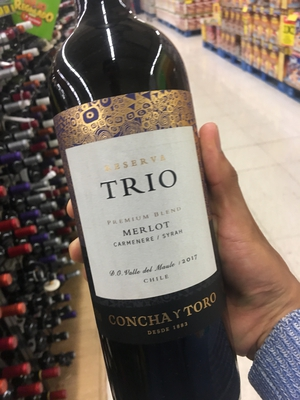trio merlot: (39, 27, 262, 400)
